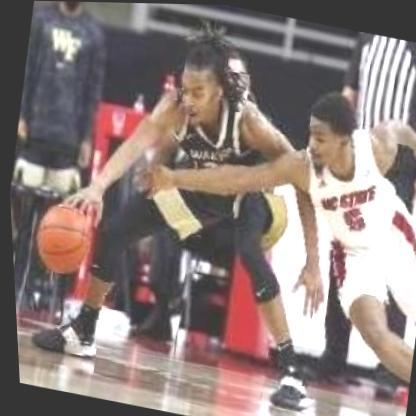basketball: (26, 192, 99, 279)
